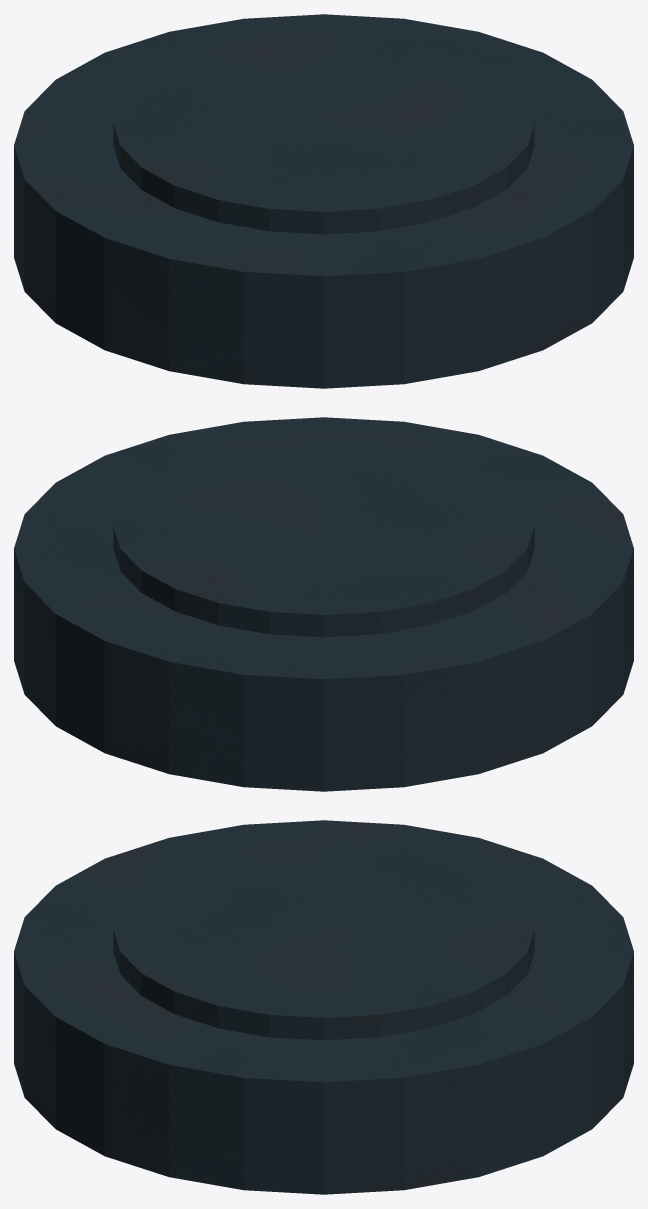
The model's file is Core_EnergyBase.fbx.
3 views of the same model, one above another, from view 1: azimuth 30°, elevation 25°; view 2: azimuth 150°, elevation 25°; view 3: azimuth 270°, elevation 25° (orthographic).
Visible parts, largest first — view 1: COL_Foundry_Core_EnergyBase_00_Both, COL_Foundry_Core_EnergyBase_01_Both; view 2: COL_Foundry_Core_EnergyBase_00_Both, COL_Foundry_Core_EnergyBase_01_Both; view 3: COL_Foundry_Core_EnergyBase_00_Both, COL_Foundry_Core_EnergyBase_01_Both.
Boxes of the visible parts, x1=… form: COL_Foundry_Core_EnergyBase_00_Both: x1=14, y1=14, x2=633, y2=388; COL_Foundry_Core_EnergyBase_01_Both: x1=113, y1=33, x2=534, y2=234; COL_Foundry_Core_EnergyBase_00_Both: x1=14, y1=417, x2=633, y2=791; COL_Foundry_Core_EnergyBase_01_Both: x1=113, y1=436, x2=534, y2=637; COL_Foundry_Core_EnergyBase_00_Both: x1=14, y1=820, x2=633, y2=1194; COL_Foundry_Core_EnergyBase_01_Both: x1=113, y1=839, x2=534, y2=1040.
Size of what is drawn, in the model's own units: 2.5 by 0.6 by 2.5.
